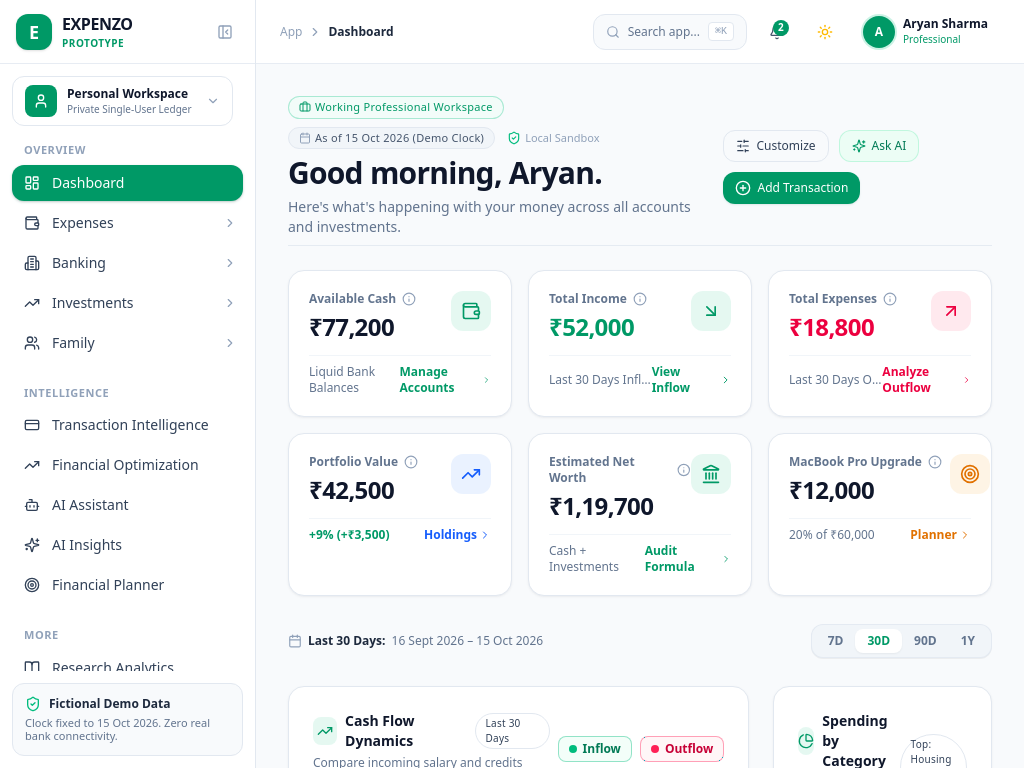
it: Phase 4 Core Financial Dashboard Tests › validates transaction modal for transfer destination account disparity
# Open modal
Click the button "Add Transaction" at (792, 188), box [724,172,860,204]
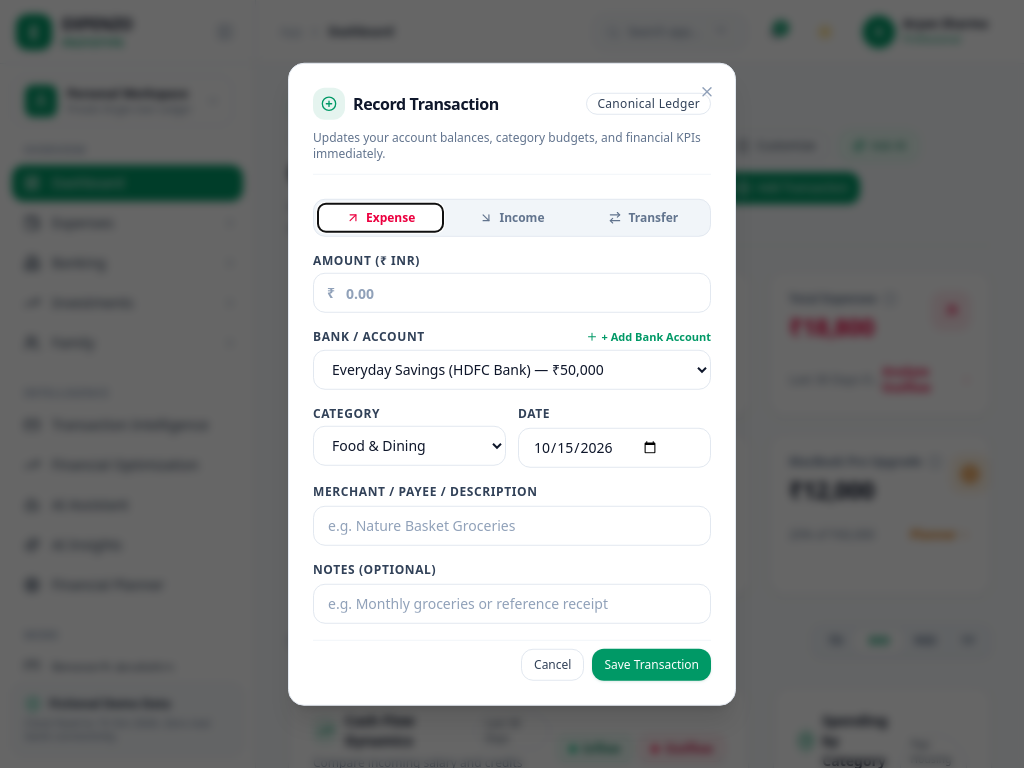
# Switch to Transfer
Click the button "Transfer" at (643, 218), box [581,204,706,232]
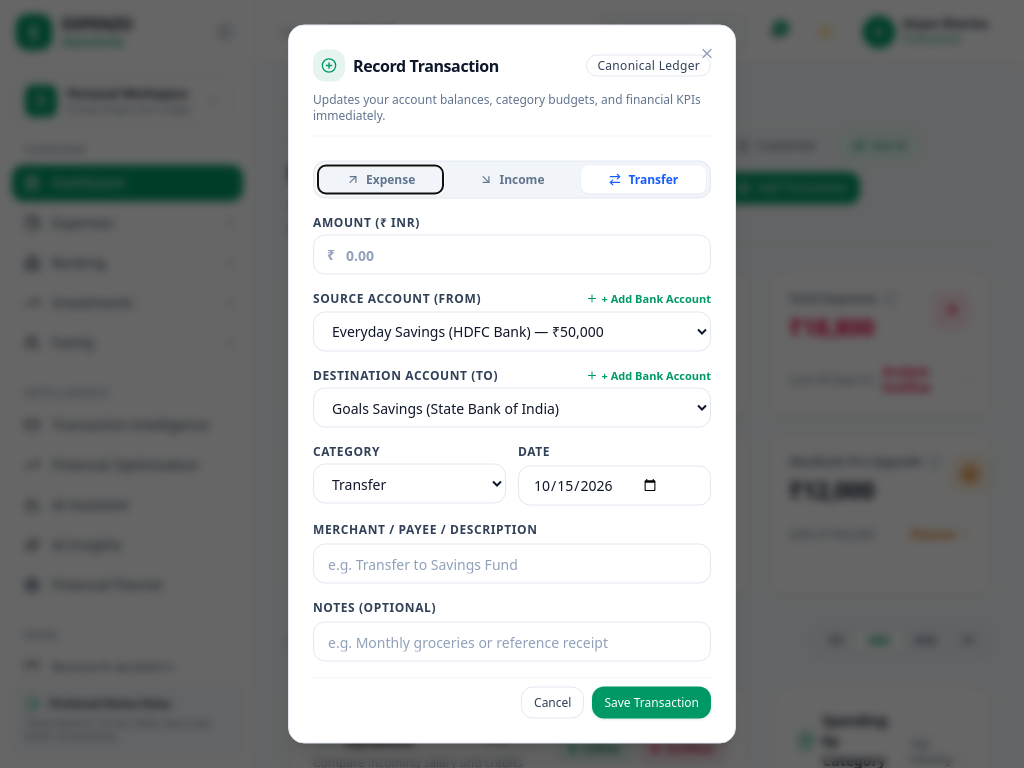
# Enter amount and merchant
Type "500" into the number field with placeholder "0.00" at (512, 254), box [313,234,711,274]
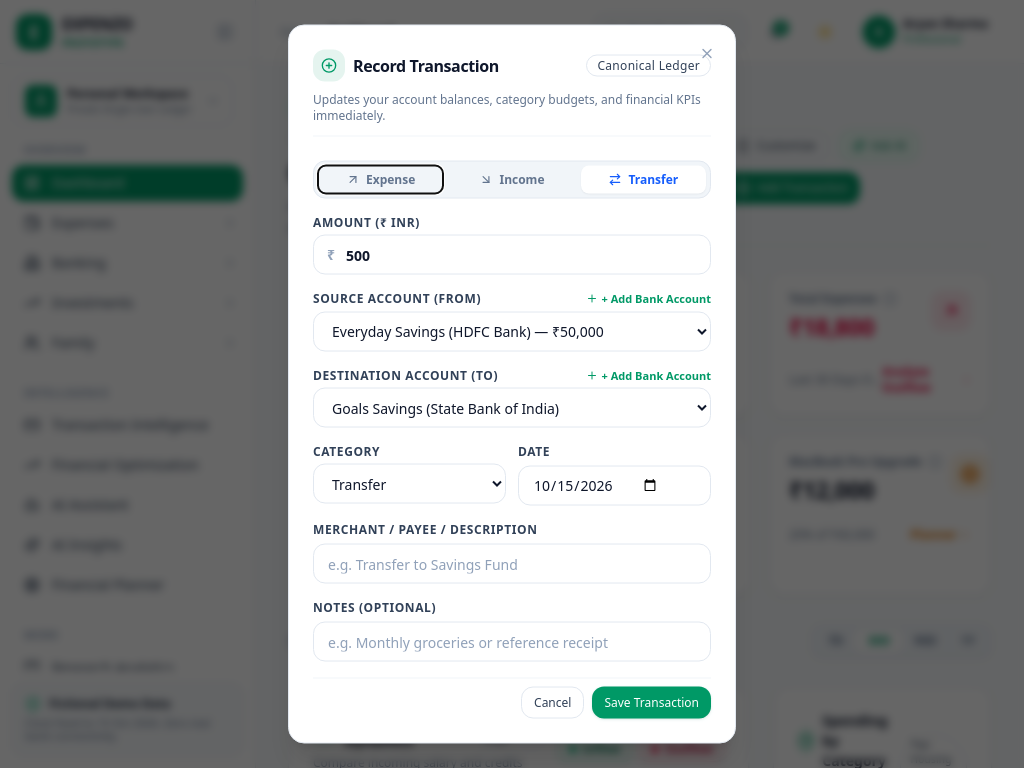
Type "Transfer test" into the field labelled "Merchant / Payee / Description" at (512, 564), box [313,544,711,584]
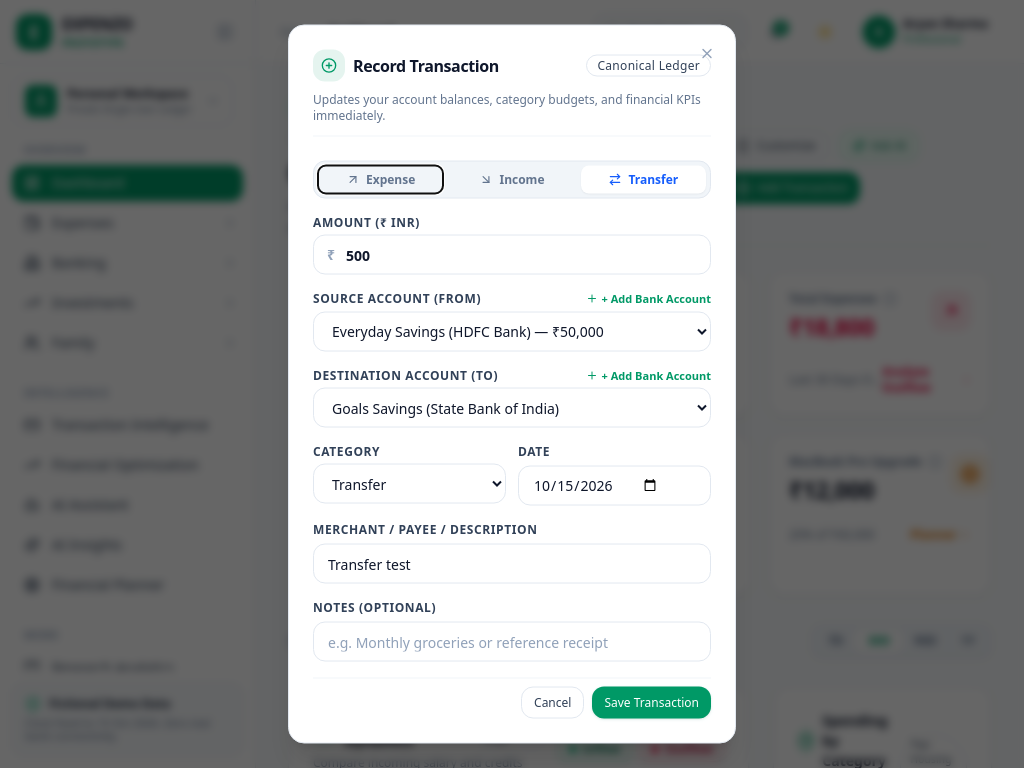
Select "Everyday Savings (HDFC Bank)" in the dropdown labelled "Destination Account (To)" at (512, 408), box [313,388,711,428]
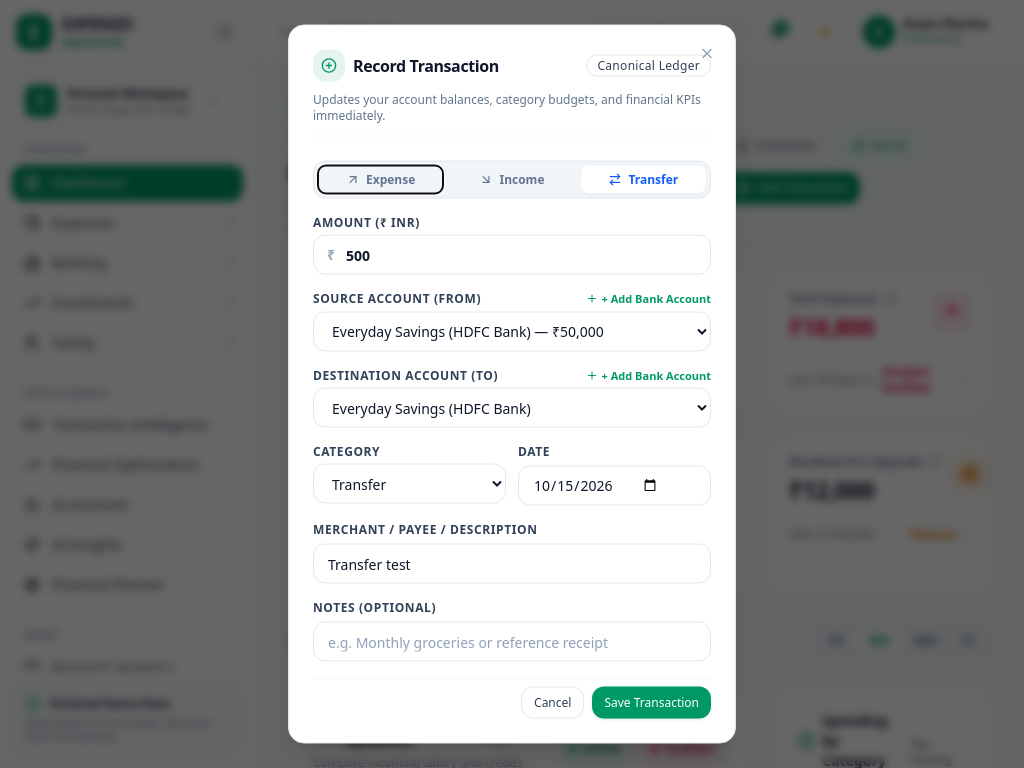
Click the button "Save Transaction" at (652, 702), box [592,686,711,718]
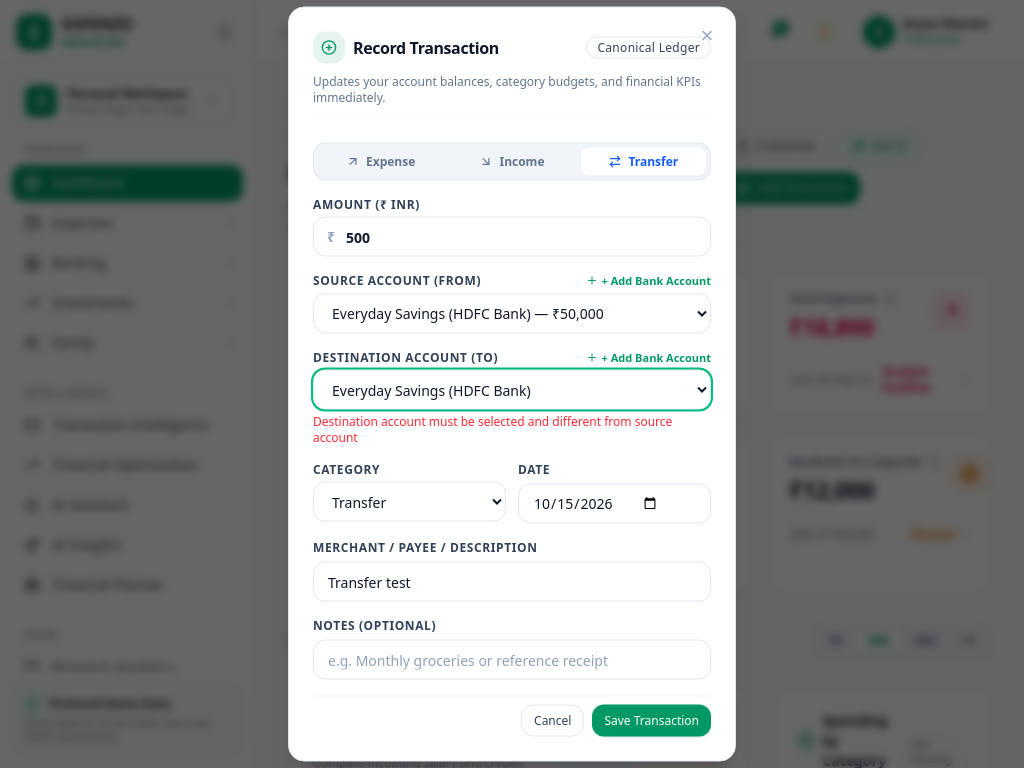
Check: the text "Destination account must be selected and different from source account" is shown, box [313,414,711,446]
